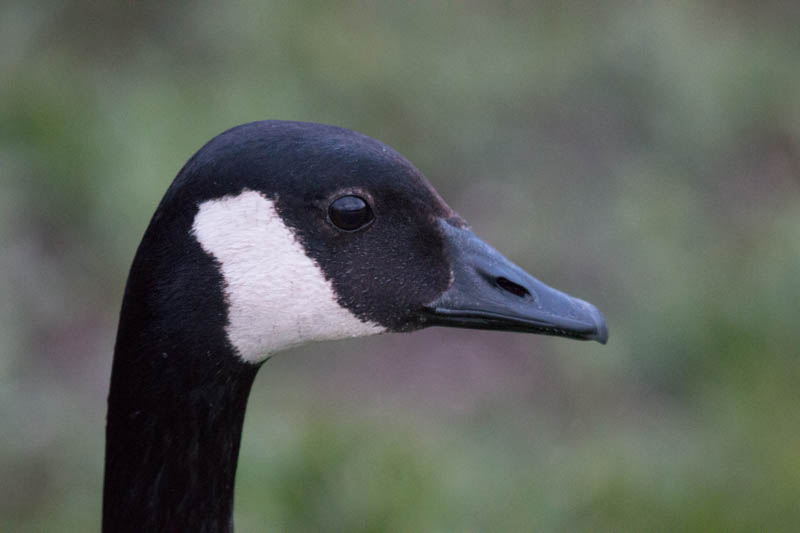goose-head: (121, 118, 609, 367)
